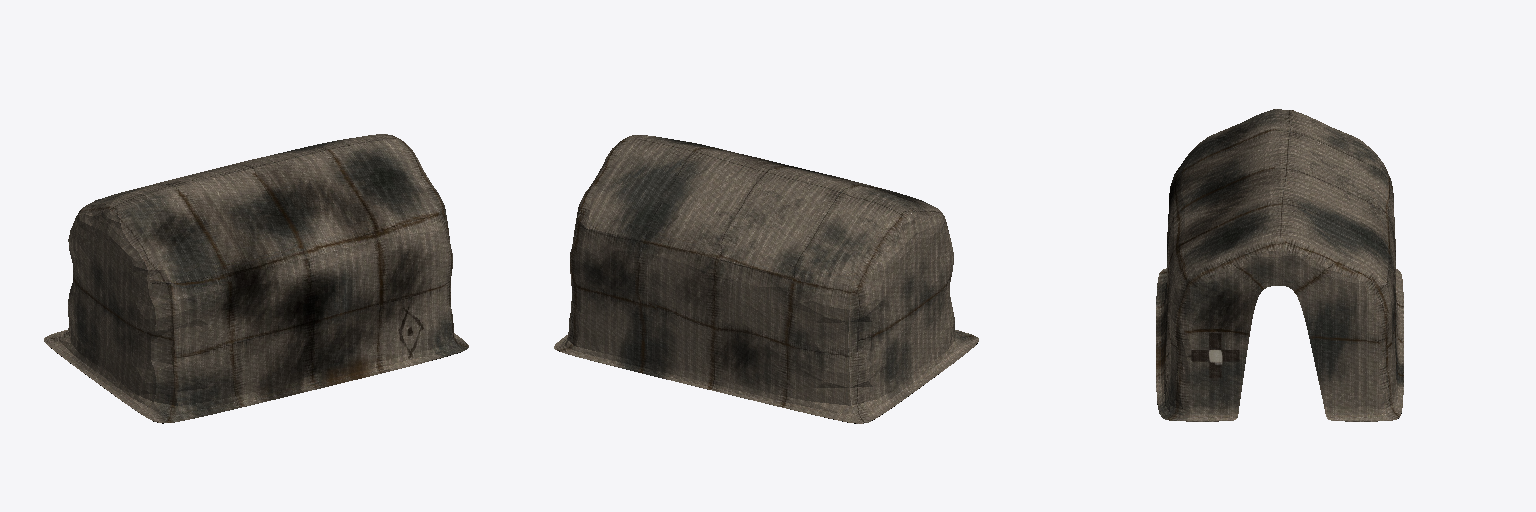
3 views of the same model, side by side, from view 1: azimuth 30°, elevation 25°; view 2: azimuth 150°, elevation 25°; view 3: azimuth 270°, elevation 25° (orthographic).
Visible parts, largest first — view 1: Plane.001_meshId1_name; view 2: Plane.001_meshId1_name; view 3: Plane.001_meshId1_name.
Boxes of the visible parts, <box> form: Plane.001_meshId1_name: <box>44,134,468,423</box>; Plane.001_meshId1_name: <box>554,135,978,423</box>; Plane.001_meshId1_name: <box>1156,109,1403,421</box>.
Size of the model in its own units: 8.39 by 4.41 by 5.65.
Materials: 2 (2 with a texture image).